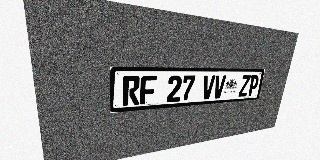2: (166, 75, 182, 102)
7: (180, 75, 195, 101)
F: (140, 76, 157, 105)
P: (247, 75, 260, 96)
R: (123, 76, 140, 106)
V: (201, 75, 215, 100), (212, 75, 226, 99)
Z: (238, 75, 251, 97)
